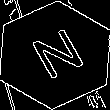N_SE: (22, 23, 88, 87)
